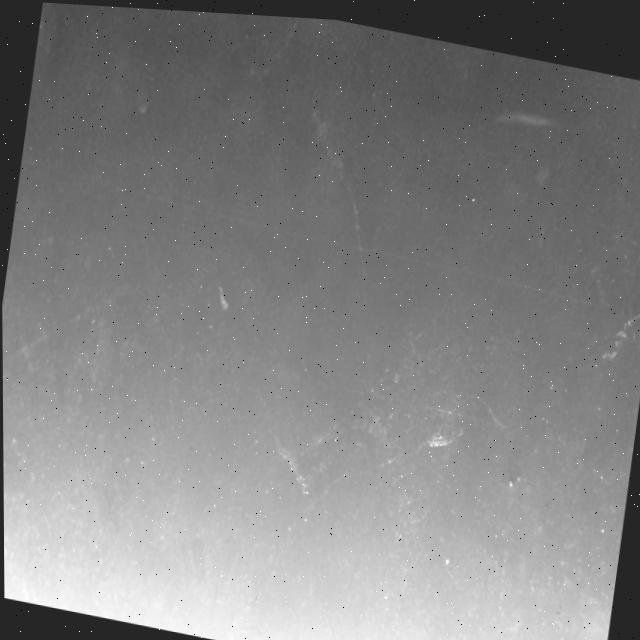beta: (281, 98, 391, 284), (294, 14, 411, 135), (2, 268, 119, 389), (310, 429, 412, 522), (216, 10, 306, 90), (364, 22, 393, 143), (599, 299, 640, 359), (465, 383, 516, 428)
